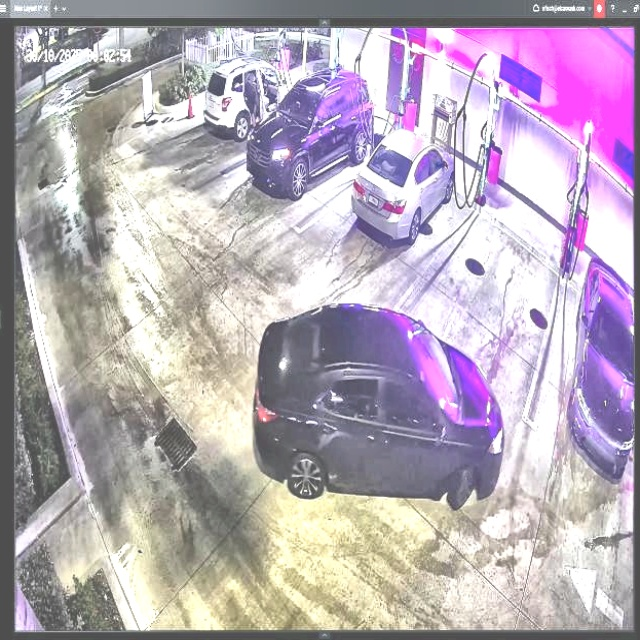Car: (251, 301, 505, 513), (245, 70, 373, 196), (353, 125, 455, 240), (204, 61, 301, 139)
